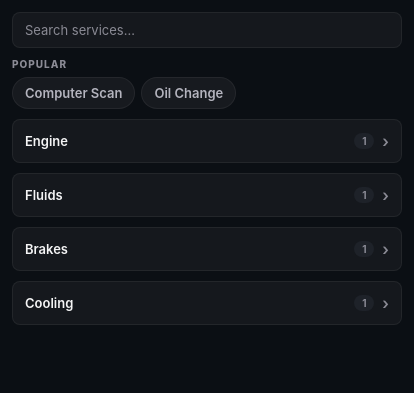
it: ServicePicker — grouped mode (mechanic) › expands a category on tap, revealing its services
Click the button "Brakes 1 ›".
click(47, 249)  # box [12,227,402,271]
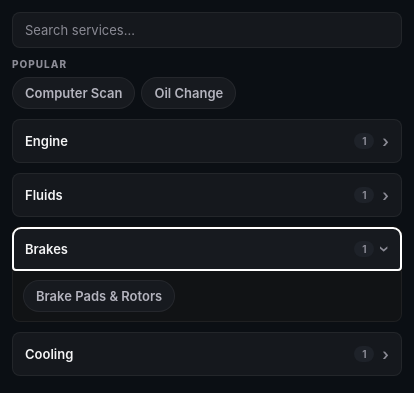
Now the button "Brake Pads & Rotors" is shown, box [23,280,175,312]
